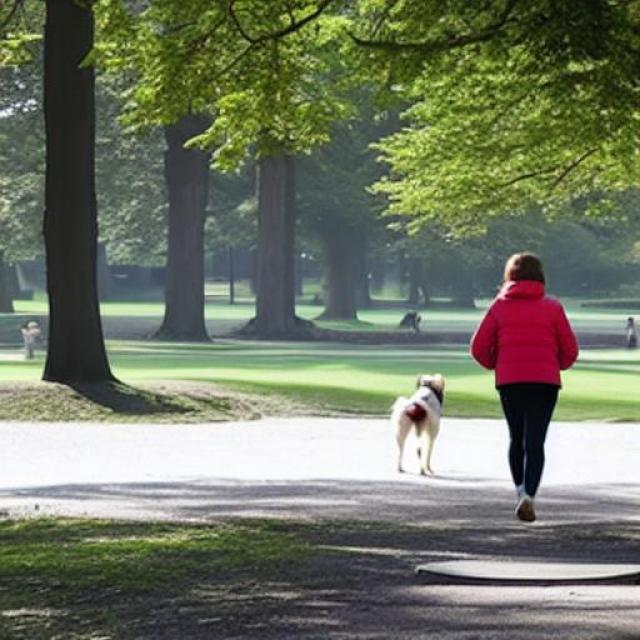Unleashed_Dog: (389, 373, 559, 478)
